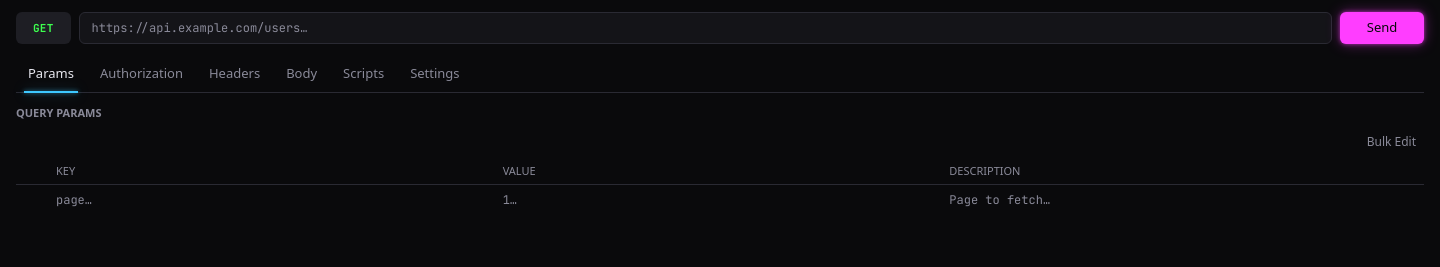
Scenario: RequestBuilder › shows why a pasted cURL command could not be read
Click the field named "Request URL": click(200, 28) top-left (92, 20), bottom-right (308, 36)
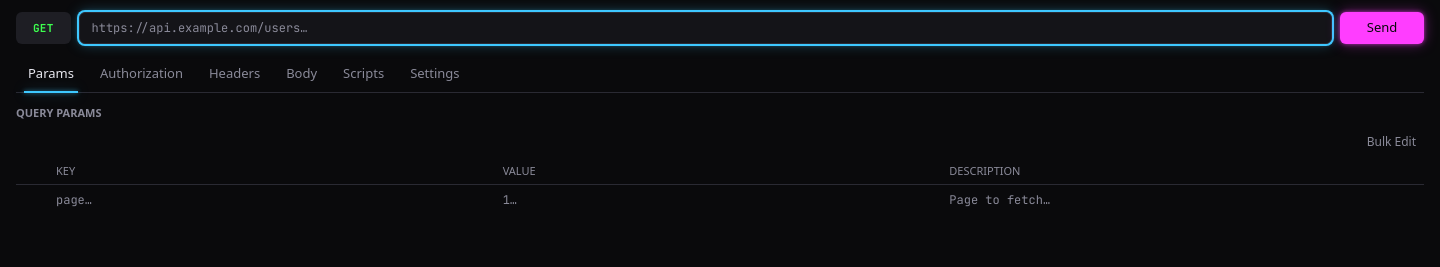
Type keys "curl ftp://x"
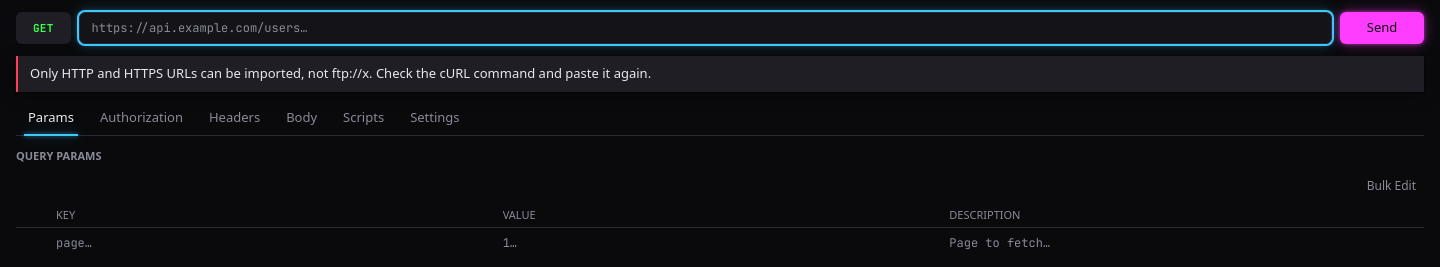
Now the message shows "Only HTTP and HTTPS URLs can be imported, not ftp://x. Check the cURL command and paste it again.", box top-left (30, 64), bottom-right (651, 82)
